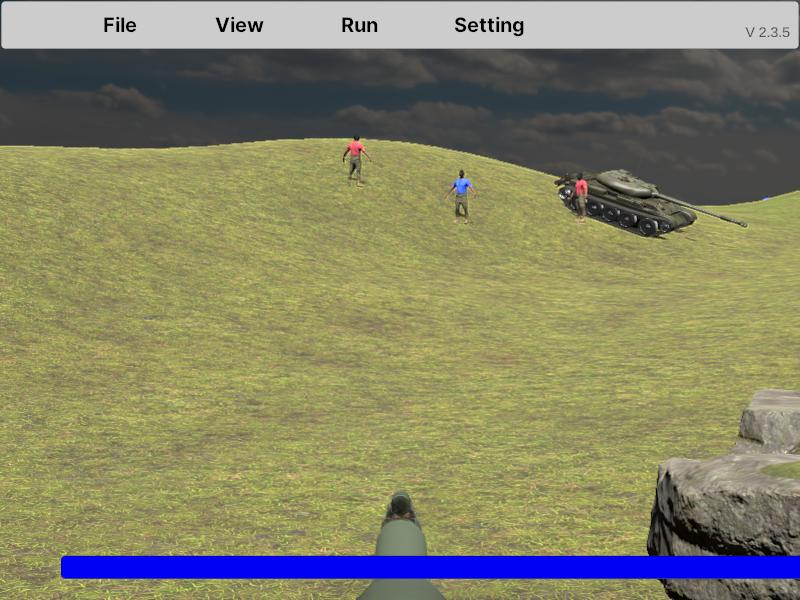Human: (447, 169, 476, 225), (342, 133, 371, 187), (572, 172, 590, 226)
Tank: (554, 169, 749, 238)
